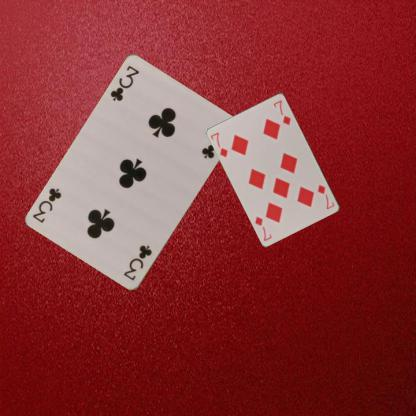3c: (107, 63, 141, 103), (121, 243, 154, 282)
7d: (315, 182, 336, 211), (208, 130, 229, 159)
